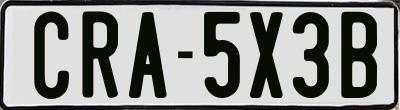3: (292, 12, 329, 104)
5: (204, 9, 244, 95)
A: (128, 9, 171, 97)
B: (341, 12, 378, 101)
C: (33, 10, 71, 98)
R: (82, 8, 119, 101)
X: (250, 11, 283, 98)
